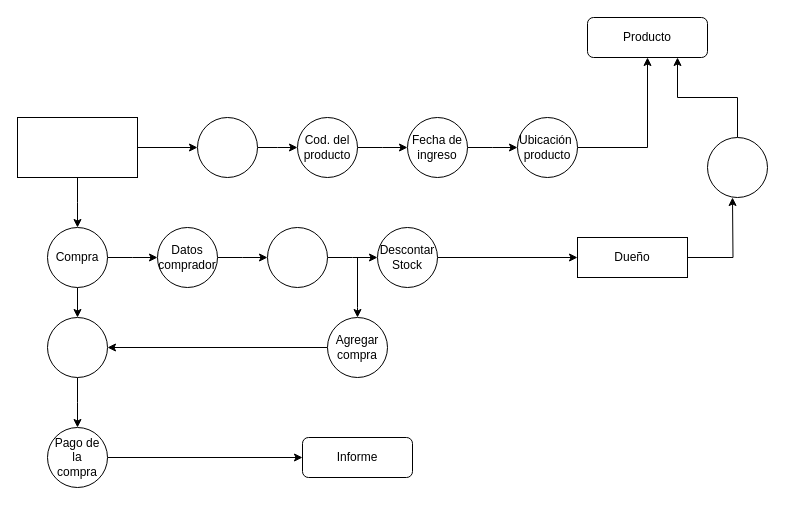
The diagram is 785 pixels wide and 505 high, and some of its shapes have lost their labels. The shapes that lost their labels are listed below. From the top down, each one's centre as x and y in pixels, then its label:
the point at 77,147: Empleado
the point at 227,147: Login
the point at 737,167: Agregar Stock
the point at 297,257: Fecha de egreso
the point at 77,347: Precio compra
